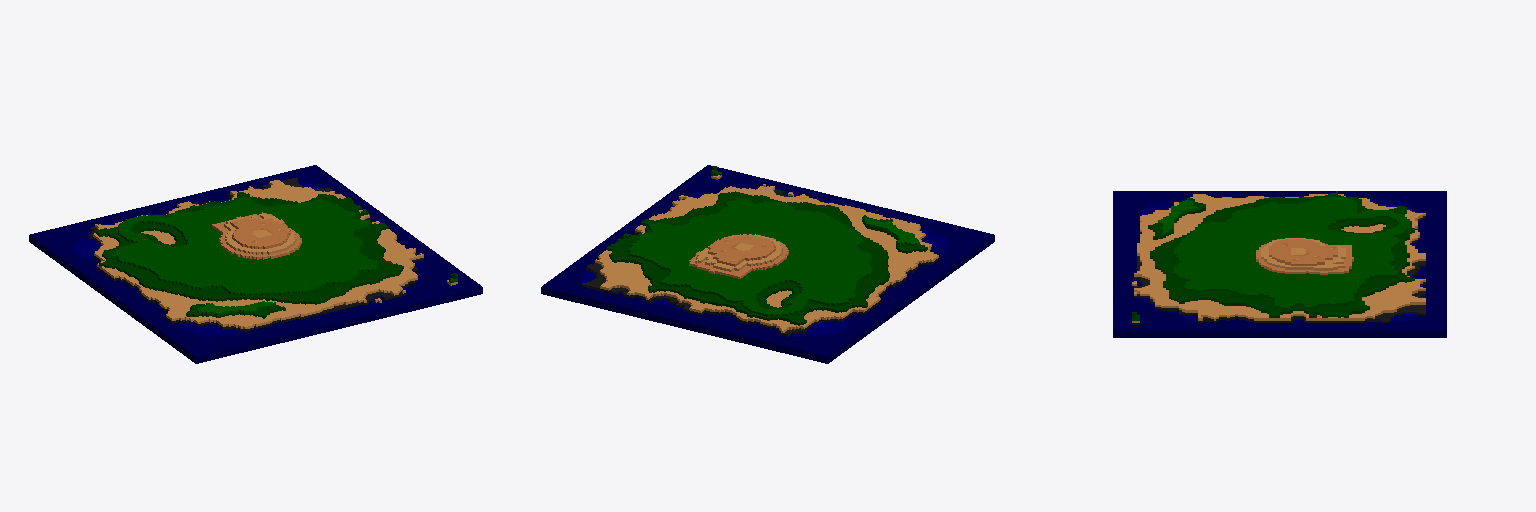
3 renders of one model, left to right at view 1: azimuth 30°, elevation 25°; view 2: azimuth 150°, elevation 25°; view 3: azimuth 270°, elevation 25°, orthographic.
Bounding box in the file's own units: 125 × 10 × 126.
1 materials, 1 textured.